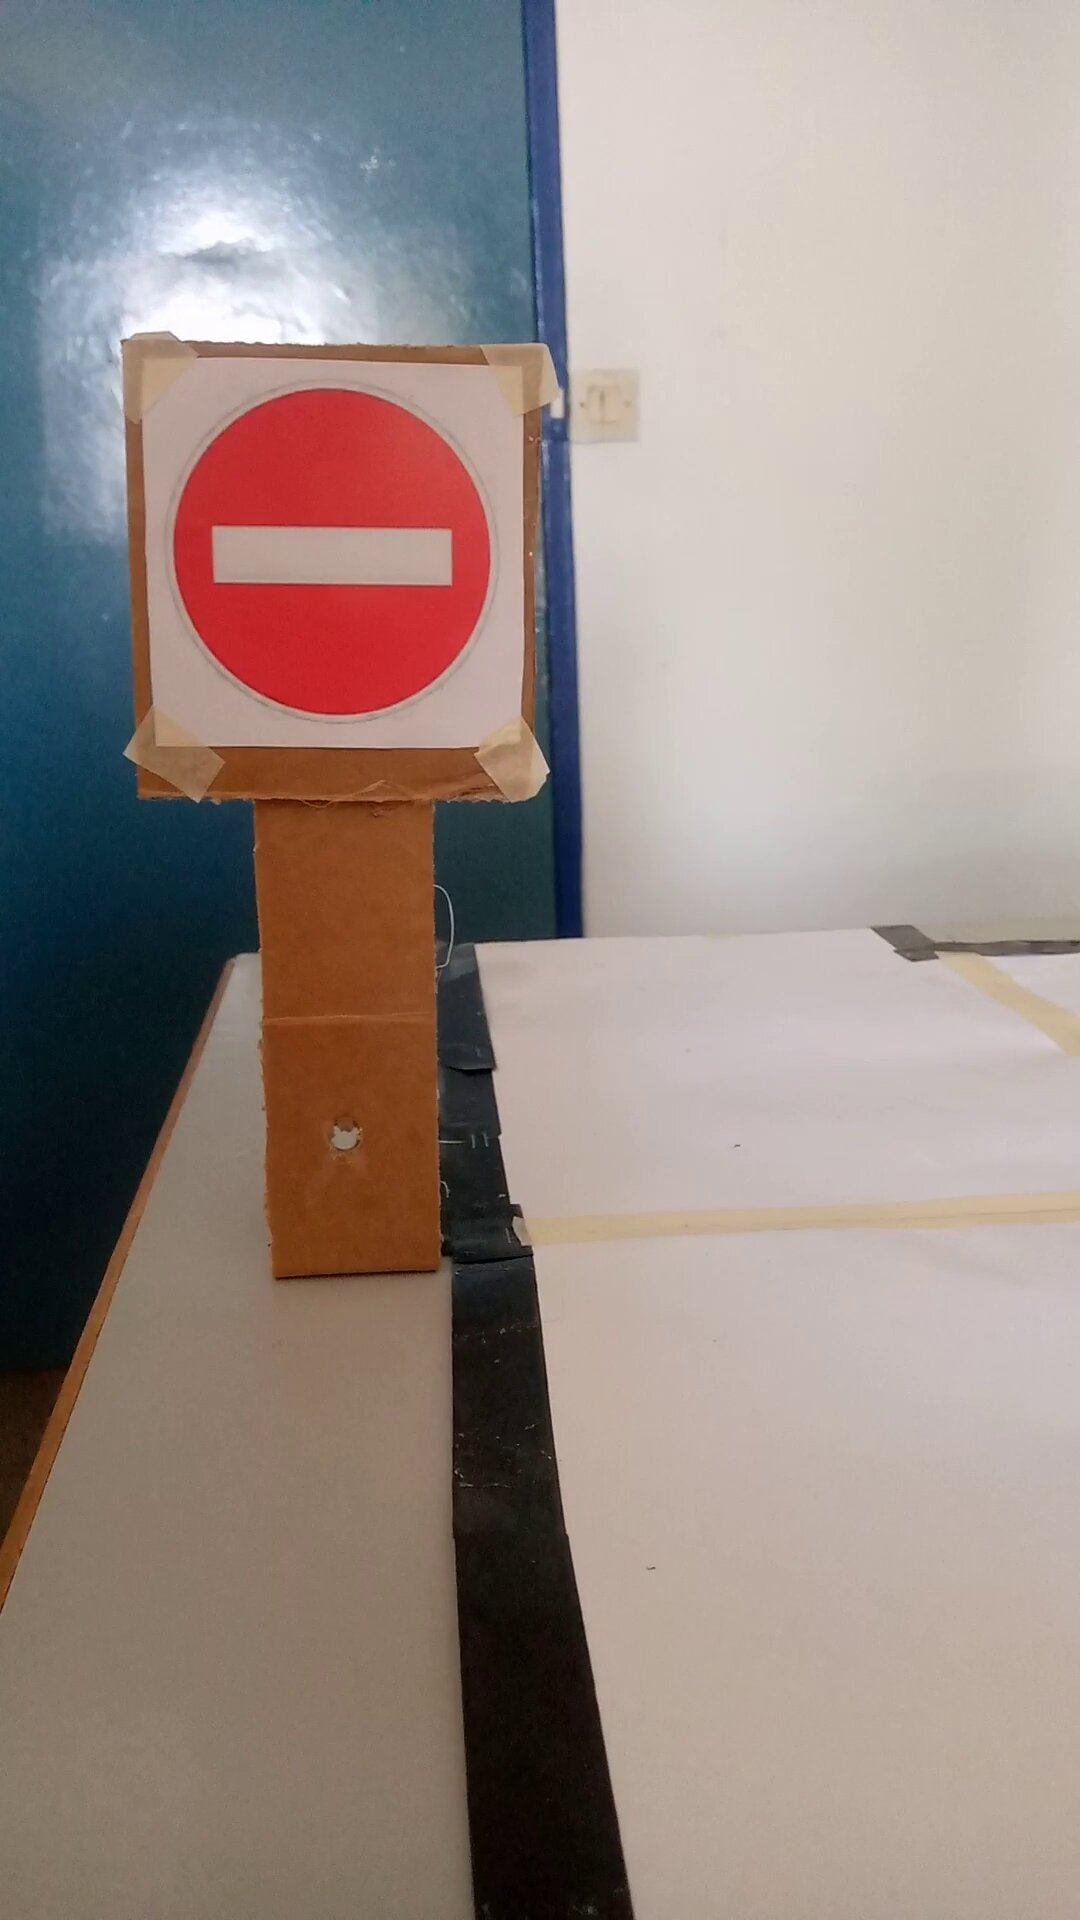panel010: (115, 340, 545, 791)
